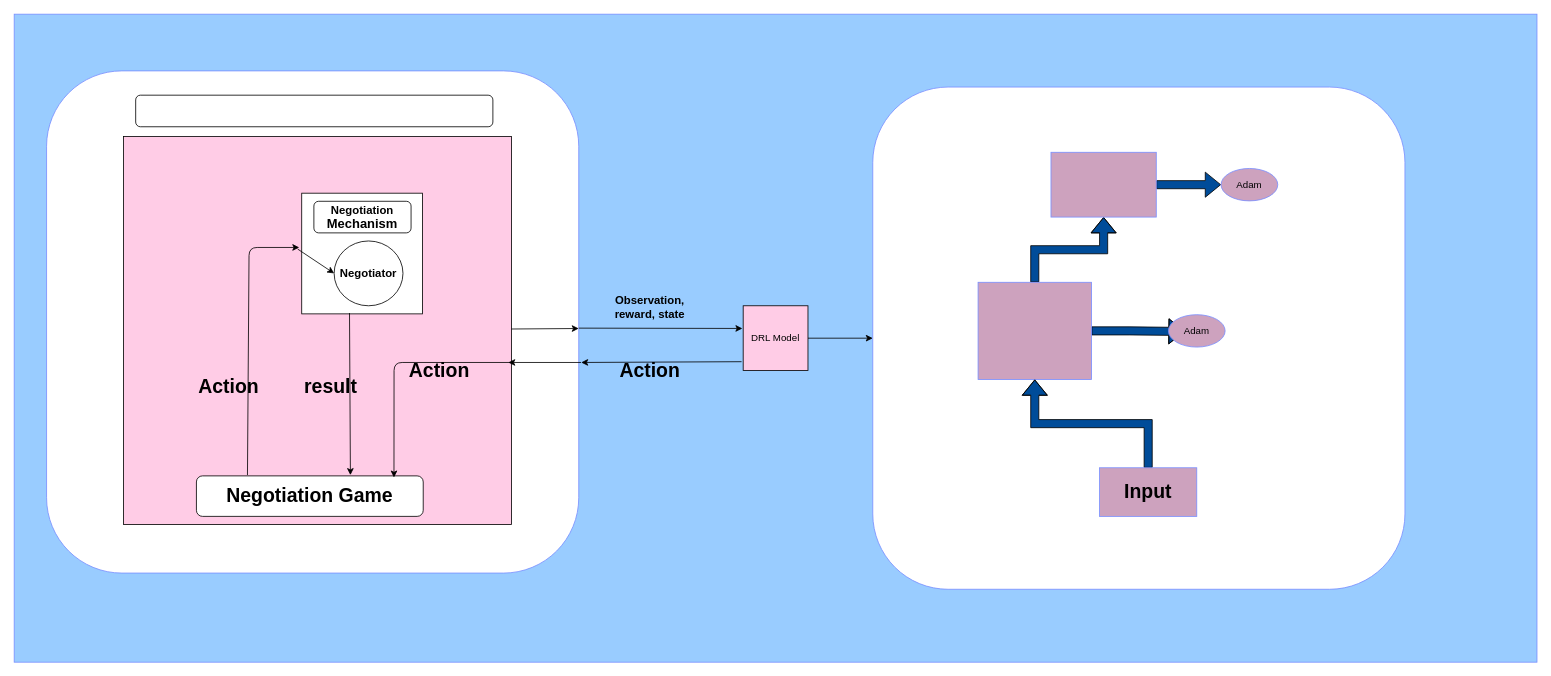
Image size: 1551x676. Some labels were removed from this diagram. The shapes that lost their labels are listed below. From the top down, each one's centre as x and y in pixels, then its label:
At pixel 314 110: "Negotiation Environment".
At pixel 1103 184: "Loss".
At pixel 1034 330: "Deepq".
